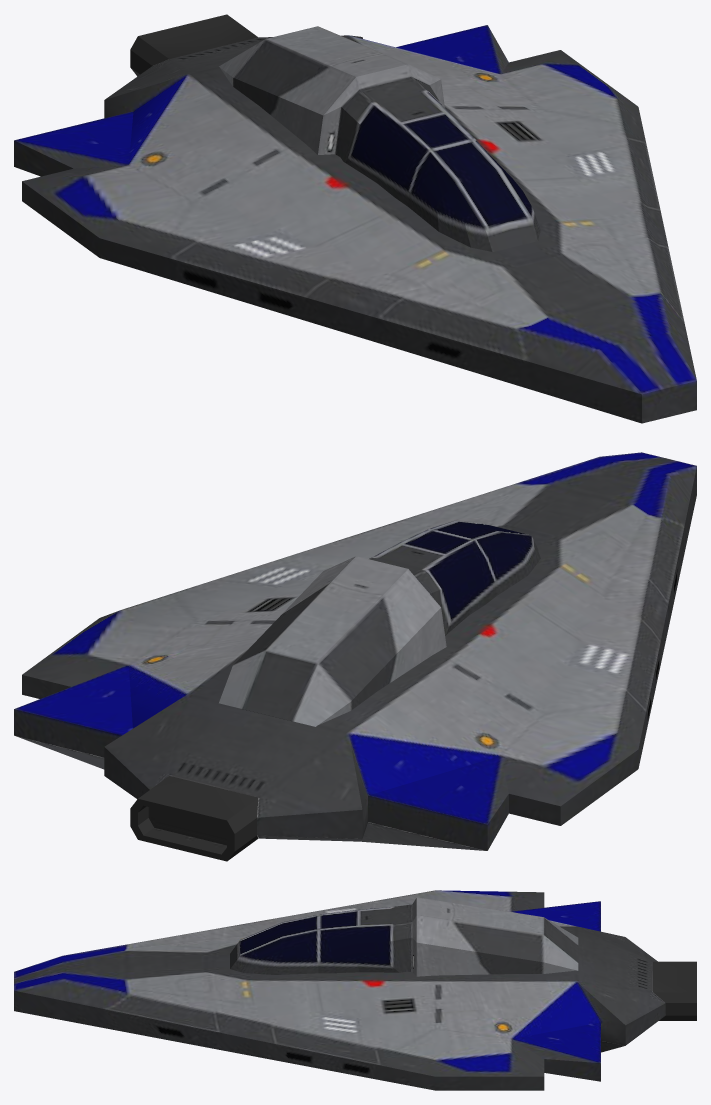
Rendered from Spaceship17.glb.
3 renders of one model, top to bottom at view 1: azimuth 30°, elevation 25°; view 2: azimuth 150°, elevation 25°; view 3: azimuth 270°, elevation 25°, orthographic. The views are drawn at different scales.
Bounding box in the file's own units: 1.34 × 0.4107 × 2.09.
1 material, 1 textured.
